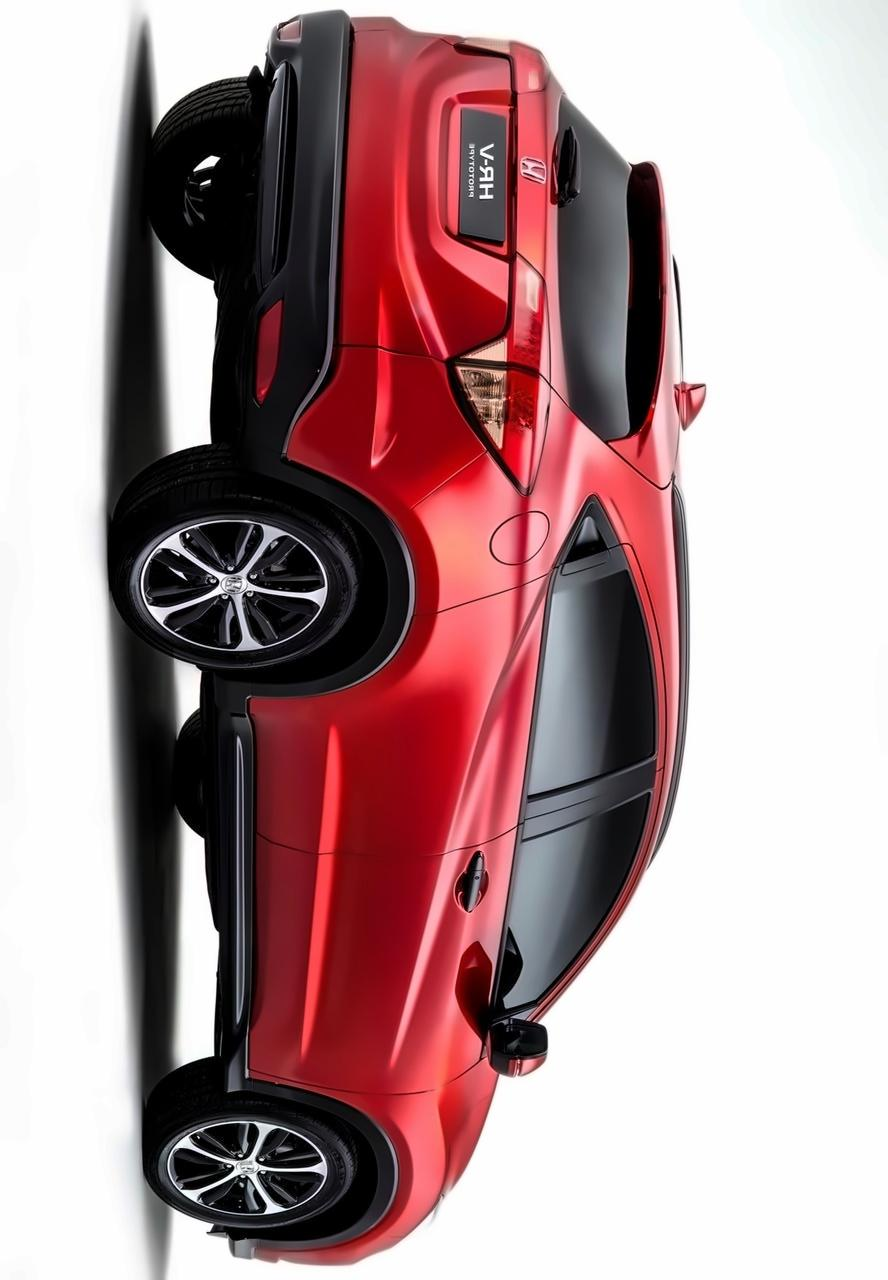Car boot: (342, 8, 693, 487)
Driver-s door - -F-R-: (220, 758, 726, 1100)
Fender - -F-R-: (209, 1052, 534, 1269)
Passenger-s door - -R-R-: (214, 548, 716, 879)
Rear bumper: (215, 6, 366, 469)
Rear light - -R-: (444, 248, 547, 497)
Side bumper - -R-: (196, 692, 334, 1105)
Side mirror - -R-: (484, 987, 552, 1089)
